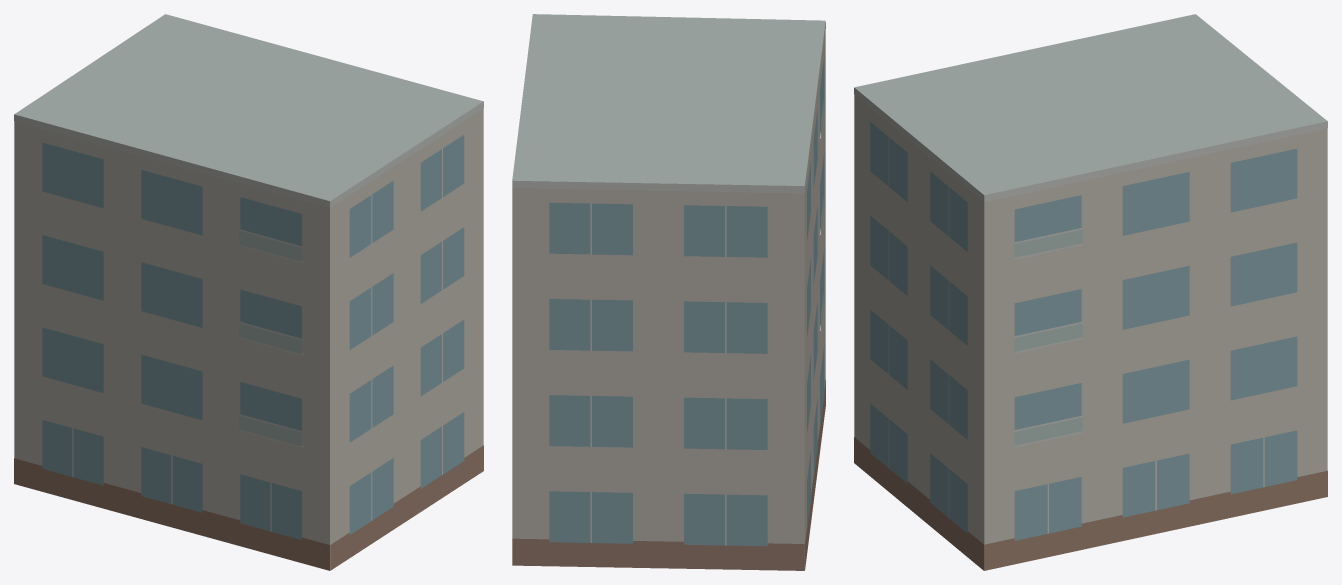
Rendered from survey-upis-32967696.glb.
3 renders of one model, left to right at view 1: azimuth 30°, elevation 25°; view 2: azimuth 150°, elevation 25°; view 3: azimuth 270°, elevation 25°, orthographic. The views are drawn at different scales.
Parts seen in each view (by area): view 1: survey-upis-32967696.tmp; view 2: survey-upis-32967696.tmp; view 3: survey-upis-32967696.tmp.
Boxes of the visible parts, <box> form: survey-upis-32967696.tmp: <box>14,14,483,570</box>; survey-upis-32967696.tmp: <box>512,14,825,570</box>; survey-upis-32967696.tmp: <box>854,14,1327,570</box>.
Size of the model in its own units: 13.41 by 12.95 by 14.81.
